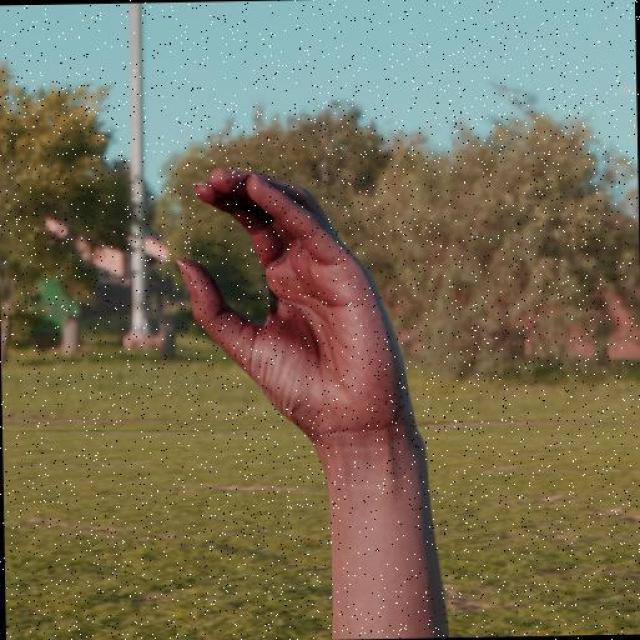C: (172, 160, 432, 455)
